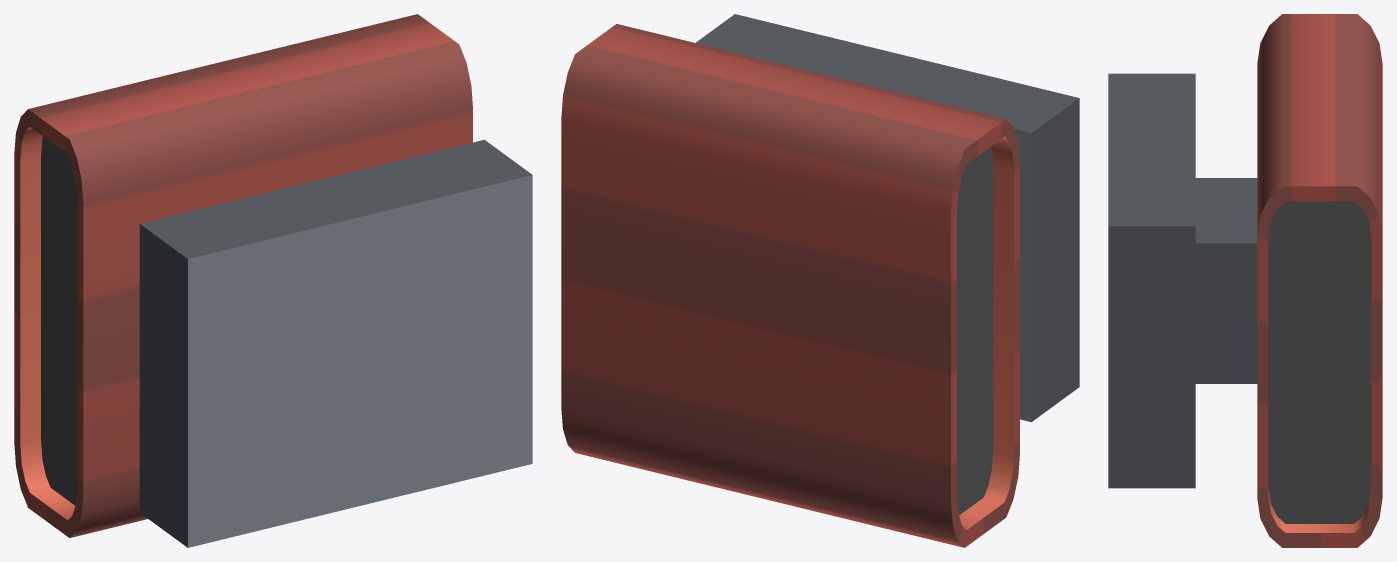
File: SandPaper_02.fbx
The picture shows the model from 3 angles, left to right: view 1: azimuth 30°, elevation 25°; view 2: azimuth 150°, elevation 25°; view 3: azimuth 270°, elevation 25°; orthographic projection. The views are drawn at different scales.
Visible parts, largest first — view 1: SandPaper_02; view 2: SandPaper_02; view 3: SandPaper_02.
Part boxes in pixels (x1,y1,x2,y2): SandPaper_02: [14, 14, 532, 547]; SandPaper_02: [561, 14, 1079, 547]; SandPaper_02: [1108, 14, 1382, 547].
Size of the model in its own units: 200 by 196 by 134.
